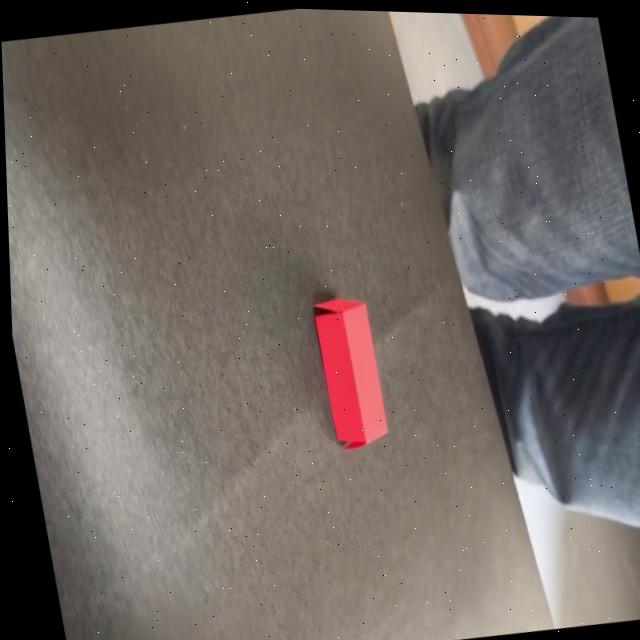red block: (310, 293, 393, 455)
